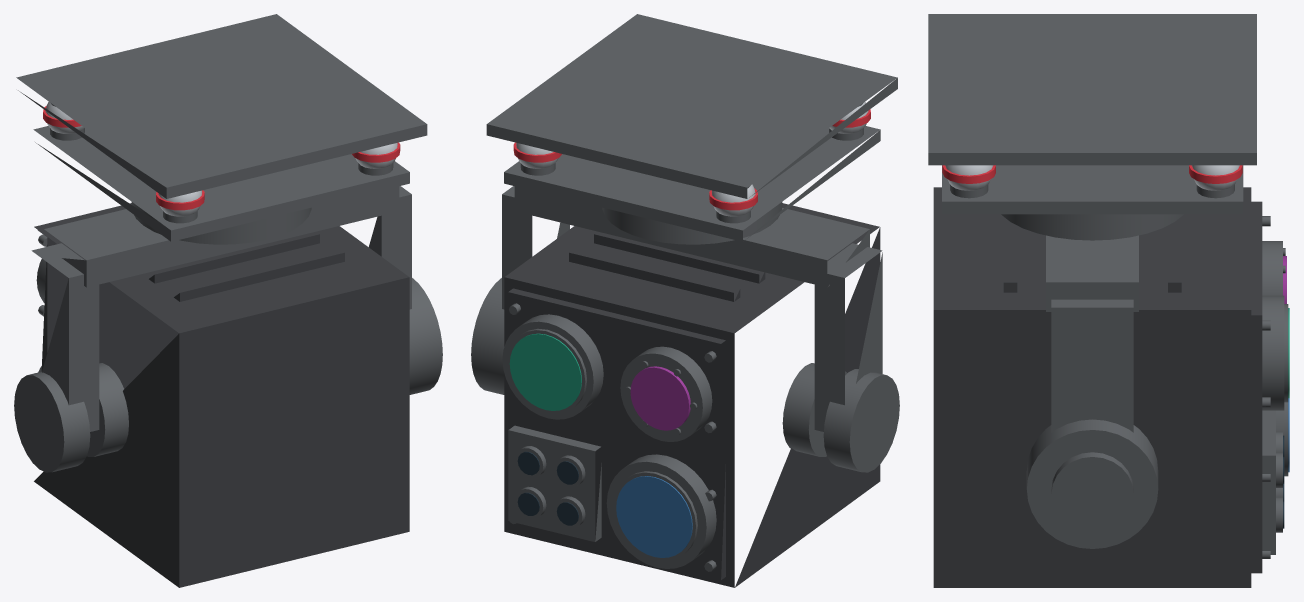
File: GIMBAL_MASTER.glb
3 views of the same model, side by side, from view 1: azimuth 30°, elevation 25°; view 2: azimuth 150°, elevation 25°; view 3: azimuth 270°, elevation 25° (orthographic). The views are drawn at different scales.
Parts seen in each view (by area): view 1: CAMERA_BODY_MESH, MOUNT_METAL, GIMBAL_PITCH, CAMERA_BEZELS, GIMBAL_YAW, MOUNT_DAMPERS, MOUNT_RINGS; view 2: MOUNT_METAL, CAMERA_BODY_MESH, GIMBAL_PITCH, CAMERA_BEZELS, LENS_SWIR_NIR, LENS_4K_DAYLIGHT, LENS_FLIR_THERMAL, GIMBAL_YAW, LENS_LRF_ARRAY, MOUNT_DAMPERS, MOUNT_RINGS; view 3: CAMERA_BODY_MESH, MOUNT_METAL, GIMBAL_PITCH, CAMERA_BEZELS, GIMBAL_YAW, MOUNT_DAMPERS, MOUNT_RINGS.
Part boxes in pixels (x1,y1,x2,y2): CAMERA_BODY_MESH: (34, 203, 409, 587); MOUNT_METAL: (16, 14, 427, 241); GIMBAL_PITCH: (14, 186, 442, 472); CAMERA_BEZELS: (36, 234, 128, 456); GIMBAL_YAW: (131, 202, 311, 244); MOUNT_DAMPERS: (45, 102, 397, 216); MOUNT_RINGS: (43, 106, 400, 210); MOUNT_METAL: (486, 14, 897, 241); CAMERA_BODY_MESH: (504, 203, 880, 587); GIMBAL_PITCH: (471, 186, 899, 472); CAMERA_BEZELS: (502, 303, 847, 571); LENS_SWIR_NIR: (616, 476, 692, 557); LENS_4K_DAYLIGHT: (509, 333, 581, 410); LENS_FLIR_THERMAL: (630, 366, 690, 430); GIMBAL_YAW: (602, 202, 782, 244); LENS_LRF_ARRAY: (517, 451, 578, 525); MOUNT_DAMPERS: (516, 102, 868, 216); MOUNT_RINGS: (513, 109, 870, 210); CAMERA_BODY_MESH: (933, 187, 1262, 587); MOUNT_METAL: (928, 14, 1256, 214); GIMBAL_PITCH: (1026, 235, 1158, 548); CAMERA_BEZELS: (1262, 216, 1288, 558); GIMBAL_YAW: (1001, 214, 1183, 240); MOUNT_DAMPERS: (945, 165, 1239, 190); MOUNT_RINGS: (942, 165, 1242, 183).
Bounding box in the file's own units: 0.176 × 0.1785 × 0.132.
